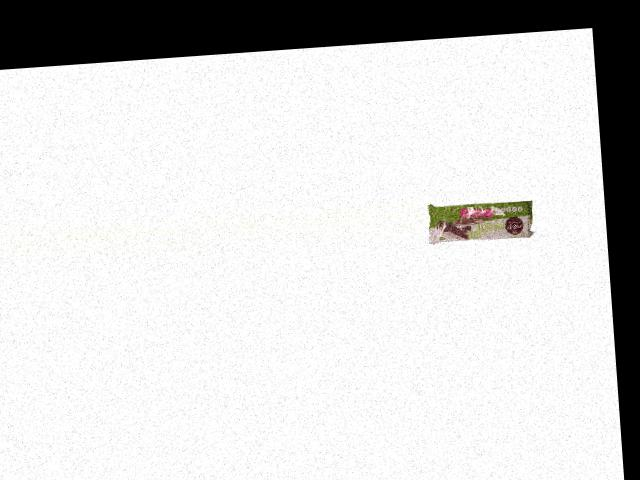chocolate: (427, 197, 538, 248)
